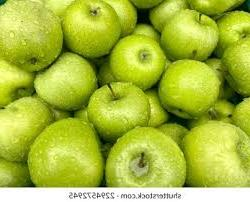apple: (26, 118, 104, 189), (104, 126, 187, 187), (156, 53, 224, 121), (0, 1, 65, 68), (186, 124, 250, 188), (33, 51, 98, 114), (88, 80, 146, 143), (0, 99, 56, 161), (63, 0, 118, 62), (159, 9, 219, 62), (112, 35, 170, 86)
